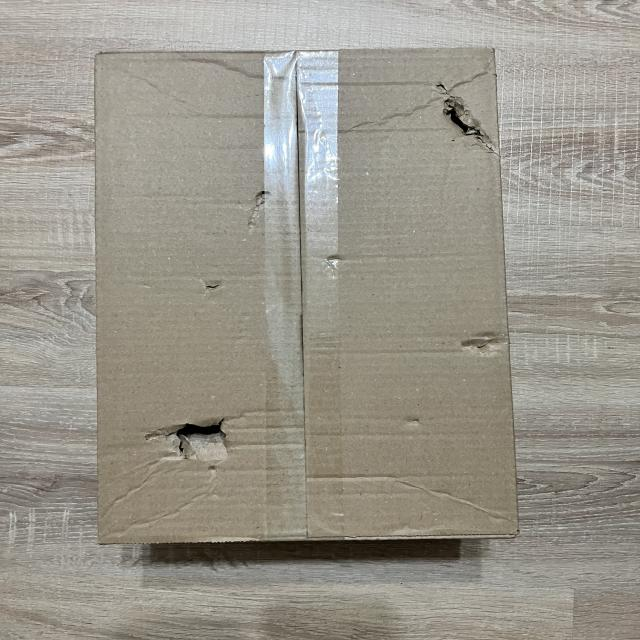damaged: (82, 38, 536, 547), (131, 403, 278, 492), (417, 73, 513, 175), (436, 328, 525, 358), (192, 273, 234, 300), (250, 181, 277, 214)
